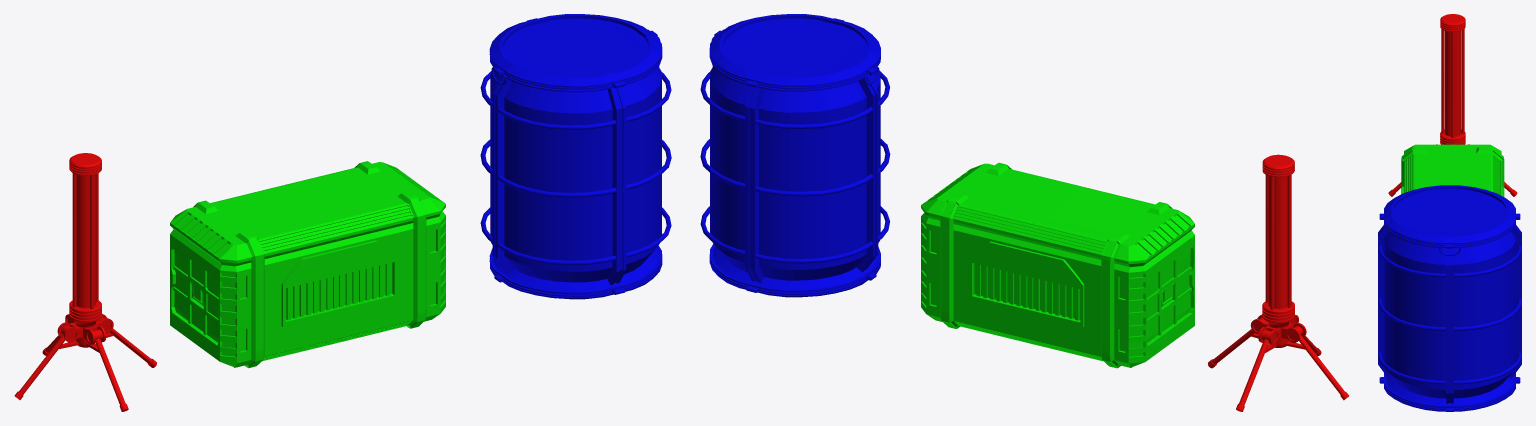
The picture shows the model from 3 angles, left to right: view 1: azimuth 30°, elevation 25°; view 2: azimuth 150°, elevation 25°; view 3: azimuth 270°, elevation 25°; orthographic projection. The views are drawn at different scales.
Parts seen in each view (by area): view 1: Barrel, Crate, Light; view 2: Barrel, Crate, Light; view 3: Barrel, Crate, Light.
Boxes of the visible parts, <box> form: Barrel: <box>480,14,671,299</box>; Crate: <box>170,161,445,368</box>; Light: <box>14,153,156,411</box>; Barrel: <box>700,14,890,297</box>; Crate: <box>921,162,1194,368</box>; Light: <box>1208,154,1348,411</box>; Barrel: <box>1378,185,1521,411</box>; Crate: <box>1401,144,1504,196</box>; Light: <box>1388,14,1517,196</box>.
Size of the model in its own units: 5.69 by 1.92 by 1.4.
